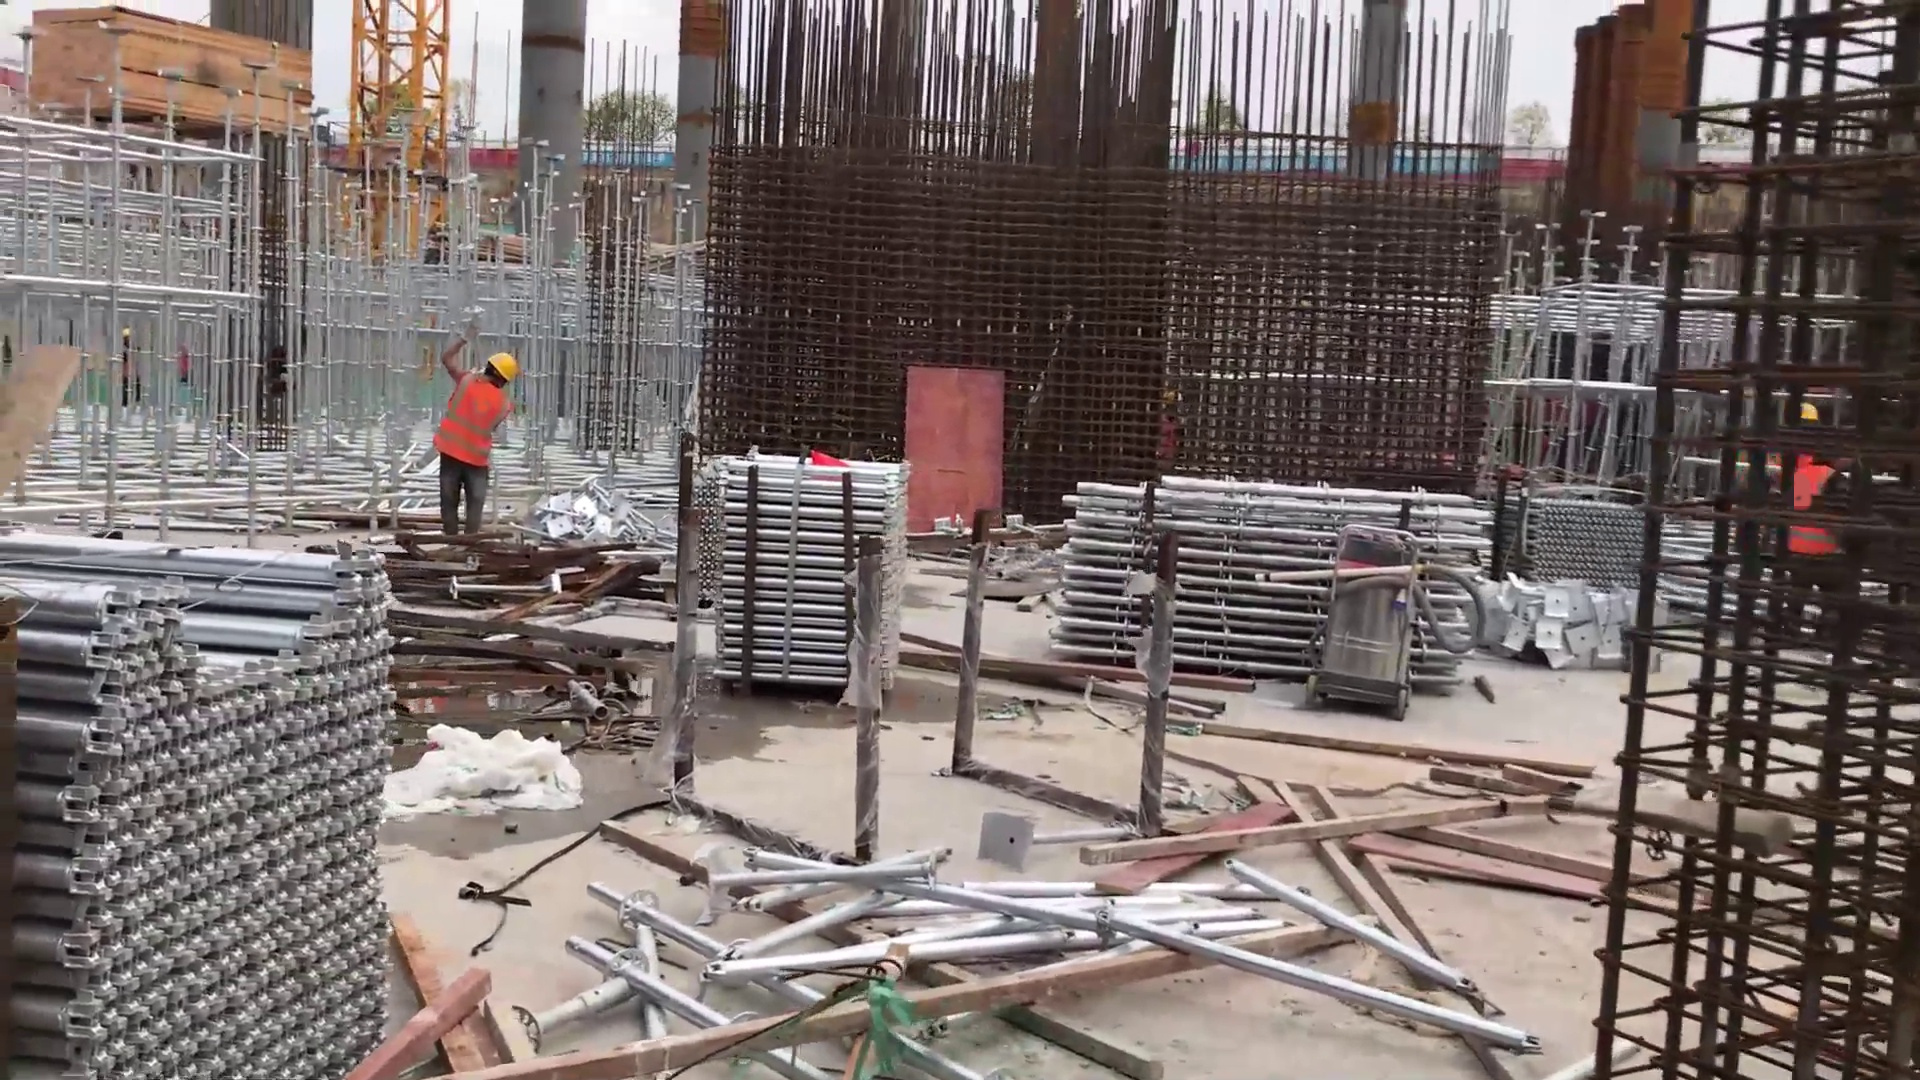board: (23, 9, 316, 134)
fence: (330, 141, 1787, 192)
helmet: (485, 350, 522, 385), (1782, 399, 1821, 428)
person: (443, 321, 510, 555)
scaffold: (27, 521, 393, 1080), (1047, 488, 1499, 695), (694, 445, 907, 702), (1503, 485, 1652, 608)
slogan: (1173, 148, 1490, 183), (585, 144, 675, 175)
vest: (1772, 447, 1840, 567), (444, 374, 502, 471)
